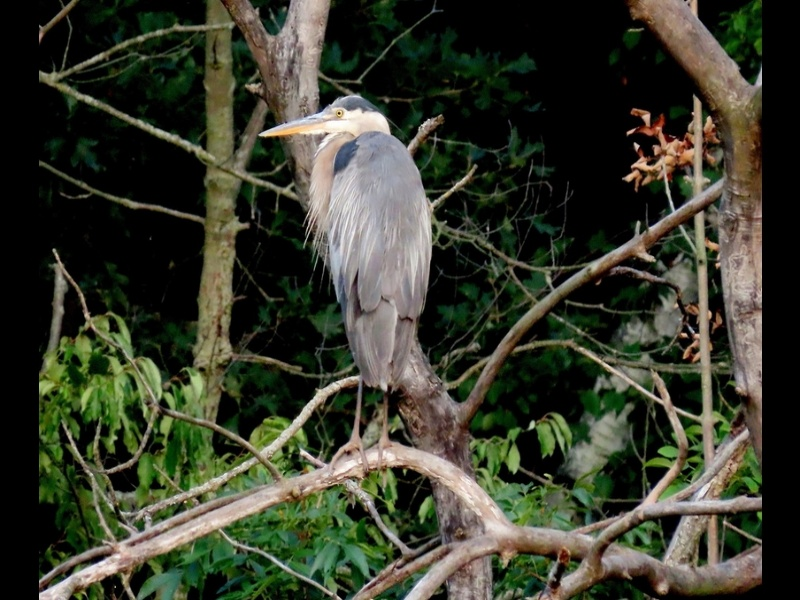heron: (256, 92, 428, 484)
